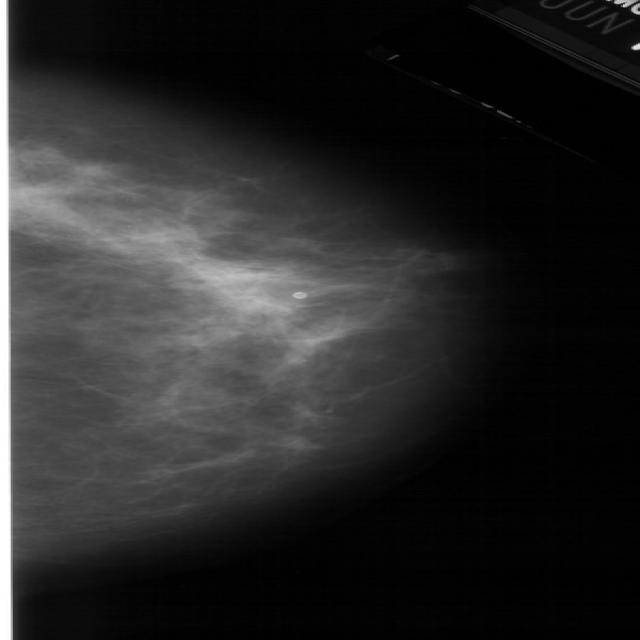tumour: (218, 290, 290, 316)
